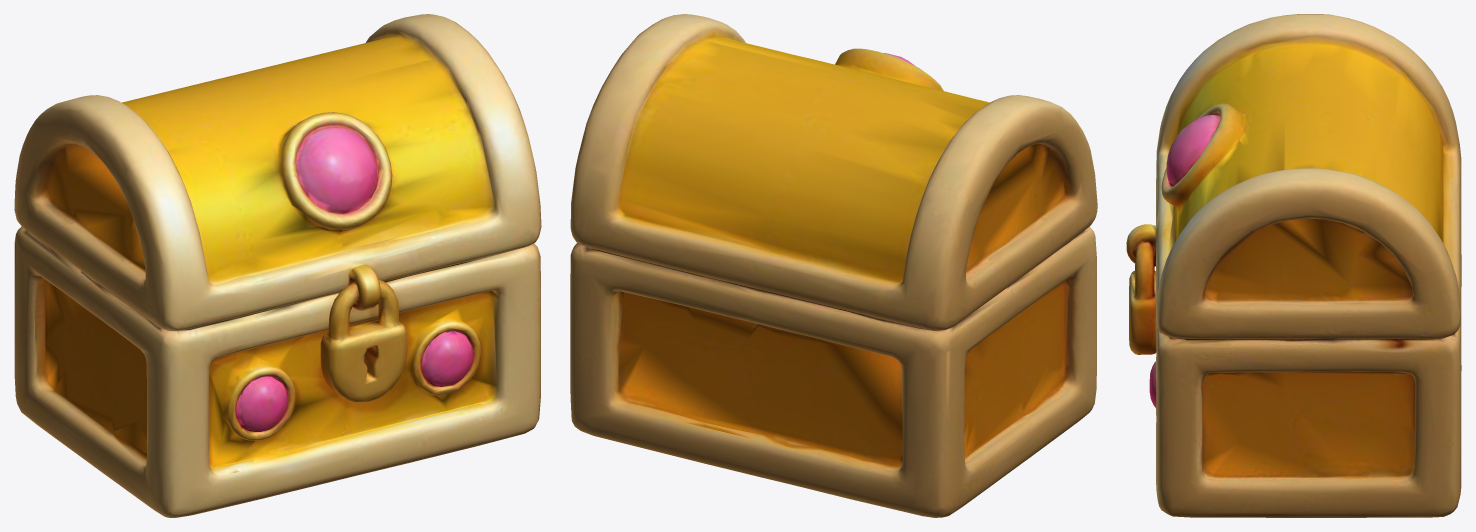
Rendered from box-gold.glb.
3 views of the same model, side by side, from view 1: azimuth 30°, elevation 25°; view 2: azimuth 150°, elevation 25°; view 3: azimuth 270°, elevation 25° (orthographic). The views are drawn at different scales.
Parts seen in each view (by area): view 1: tripo_node_a4fe889a-6ffe-4429-8e1e-50590d77317e; view 2: tripo_node_a4fe889a-6ffe-4429-8e1e-50590d77317e; view 3: tripo_node_a4fe889a-6ffe-4429-8e1e-50590d77317e.
Boxes of the visible parts, <box> form: tripo_node_a4fe889a-6ffe-4429-8e1e-50590d77317e: <box>14,14,541,517</box>; tripo_node_a4fe889a-6ffe-4429-8e1e-50590d77317e: <box>570,14,1097,517</box>; tripo_node_a4fe889a-6ffe-4429-8e1e-50590d77317e: <box>1126,14,1461,517</box>.
Bounding box in the file's own units: 1 × 0.8875 × 0.7942.
Materials: 1 (1 with a texture image).
